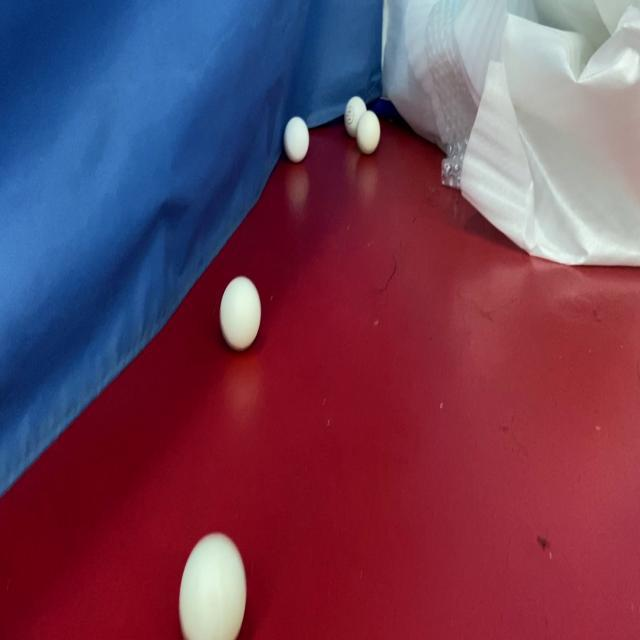ping-pong-ball: (174, 531, 249, 640), (218, 272, 264, 354), (352, 107, 382, 158), (282, 115, 310, 166)
